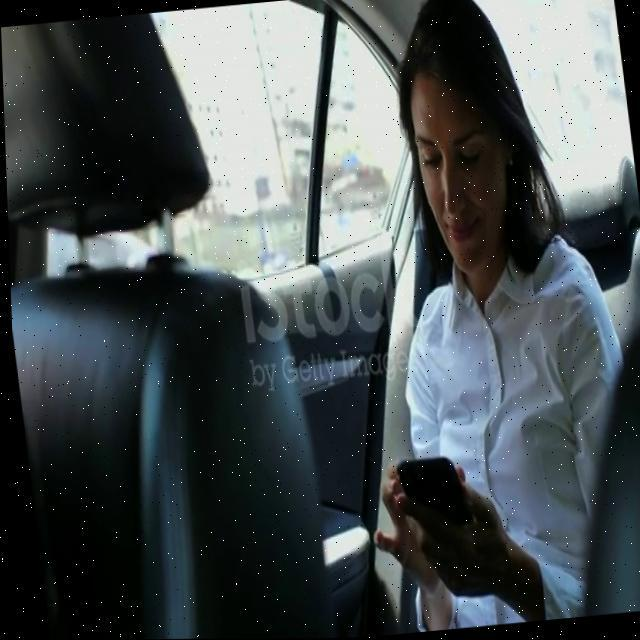PhoneCall: (389, 456, 474, 553)
